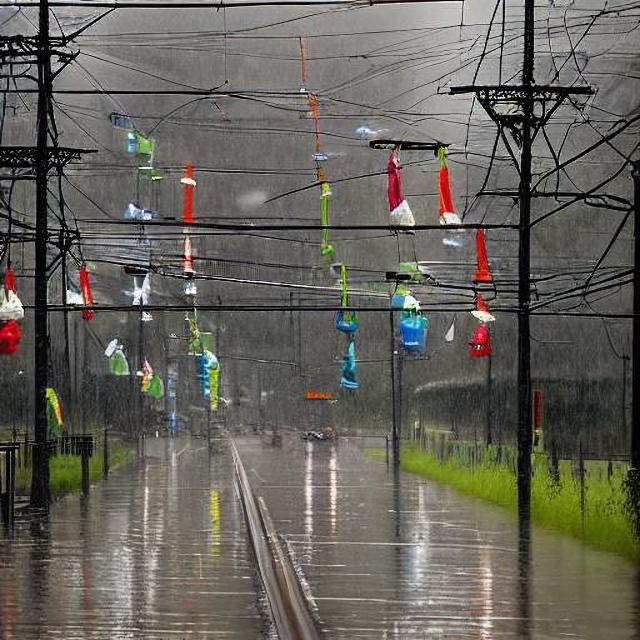floating object: (174, 234, 239, 412), (391, 266, 435, 356), (372, 144, 414, 232), (334, 278, 366, 387), (0, 262, 30, 366), (428, 152, 461, 242), (467, 293, 503, 361), (463, 224, 498, 285), (175, 160, 197, 228), (121, 126, 155, 166)
plastic bag: (104, 343, 131, 378), (146, 362, 168, 394)
